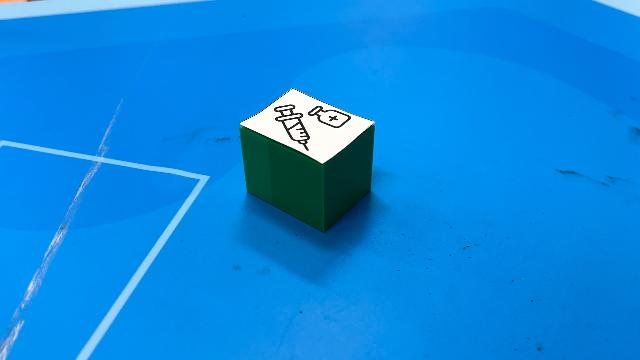syringe: (238, 87, 376, 232)
